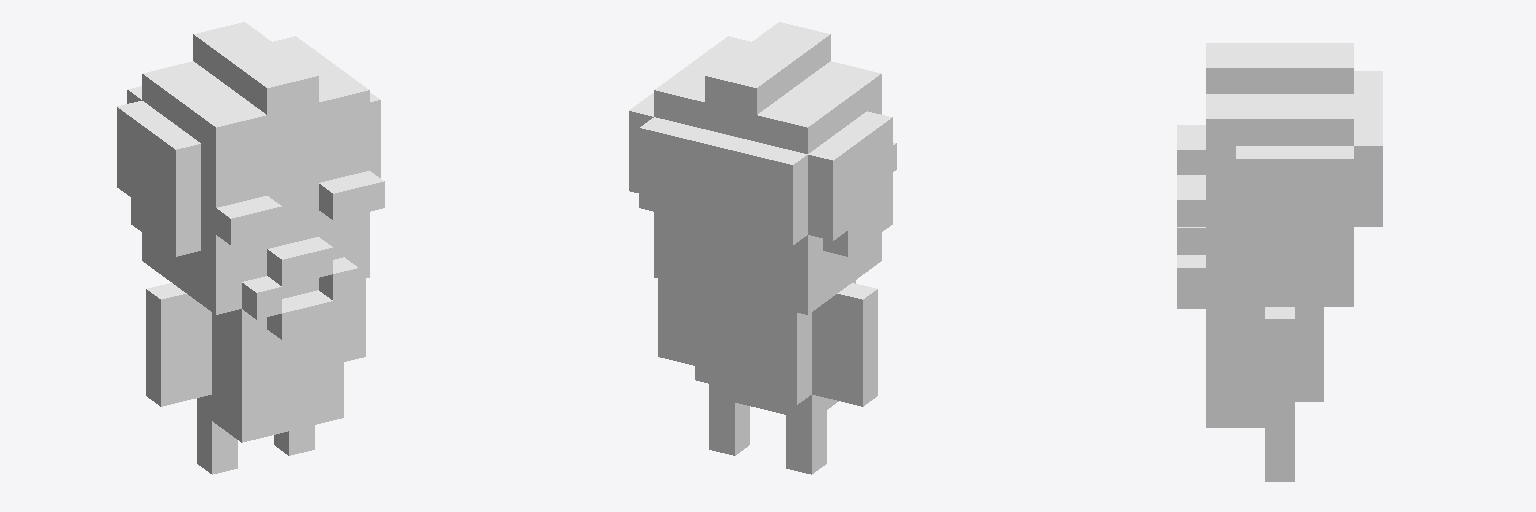
The model's file is chr_sergei.obj.
The picture shows the model from 3 angles: view 1: azimuth 30°, elevation 25°; view 2: azimuth 150°, elevation 25°; view 3: azimuth 270°, elevation 25°; orthographic projection.
Parts seen in each view (by area): view 1: chr_sergei; view 2: chr_sergei; view 3: chr_sergei.
Boxes of the visible parts, x1,y1,x2,y2 form: chr_sergei: [117, 22, 384, 474]; chr_sergei: [629, 22, 896, 474]; chr_sergei: [1177, 43, 1382, 481].
Bounding box in the file's own units: 8 × 15 × 7.